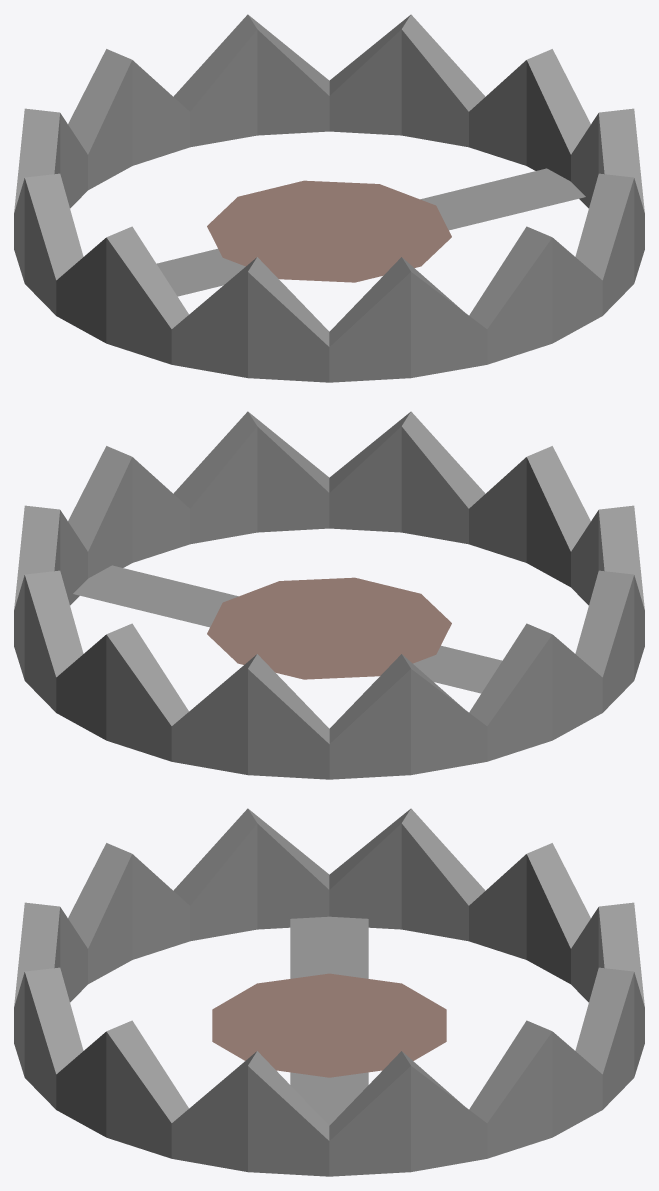
The picture shows the model from 3 angles, top to bottom: view 1: azimuth 30°, elevation 25°; view 2: azimuth 150°, elevation 25°; view 3: azimuth 270°, elevation 25°; orthographic projection.
Parts seen in each view (by area): view 1: top, bottom, trigger, base; view 2: bottom, top, trigger, base; view 3: top, bottom, trigger, base.
Boxes of the visible parts, x1,y1,x2,y2 form: top: [56, 108, 644, 382]; bottom: [14, 14, 590, 315]; trigger: [207, 180, 451, 282]; base: [157, 168, 585, 296]; bottom: [14, 505, 602, 779]; top: [68, 411, 644, 712]; trigger: [207, 577, 451, 679]; base: [73, 565, 501, 693]; top: [14, 808, 329, 1176]; bottom: [329, 808, 644, 1176]; trigger: [212, 973, 446, 1077]; base: [290, 916, 368, 1125].
Bounding box in the file's own units: 1.01 × 0.1875 × 1.01.
Materials: 1 (1 with a texture image).
